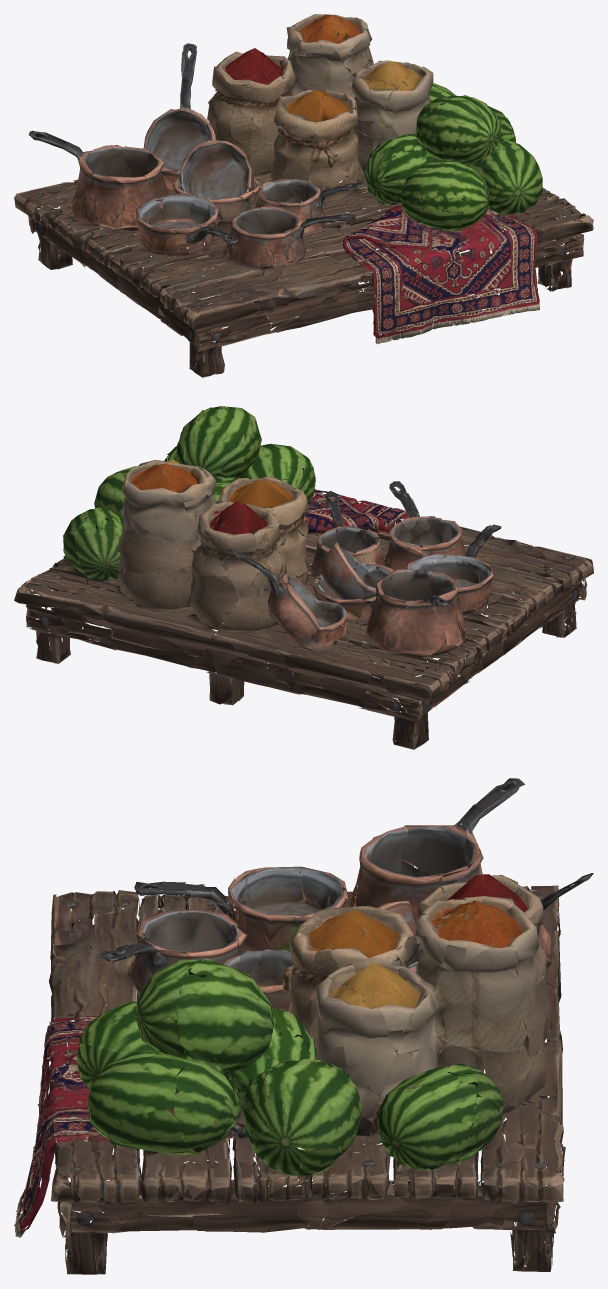
File: M06_StallDecor.fbx
The picture shows the model from 3 angles, top to bottom: view 1: azimuth 30°, elevation 25°; view 2: azimuth 150°, elevation 25°; view 3: azimuth 270°, elevation 25°; orthographic projection. The views are drawn at different scales.
Parts seen in each view (by area): view 1: M06_StallDecor.023; view 2: M06_StallDecor.023; view 3: M06_StallDecor.023.
Boxes of the visible parts, bbox=[...] form: M06_StallDecor.023: bbox=[14, 14, 593, 377]; M06_StallDecor.023: bbox=[14, 406, 593, 749]; M06_StallDecor.023: bbox=[14, 778, 593, 1274].
Size of the model in its own units: 2.16 by 1 by 1.76.
1 material, 1 textured.
